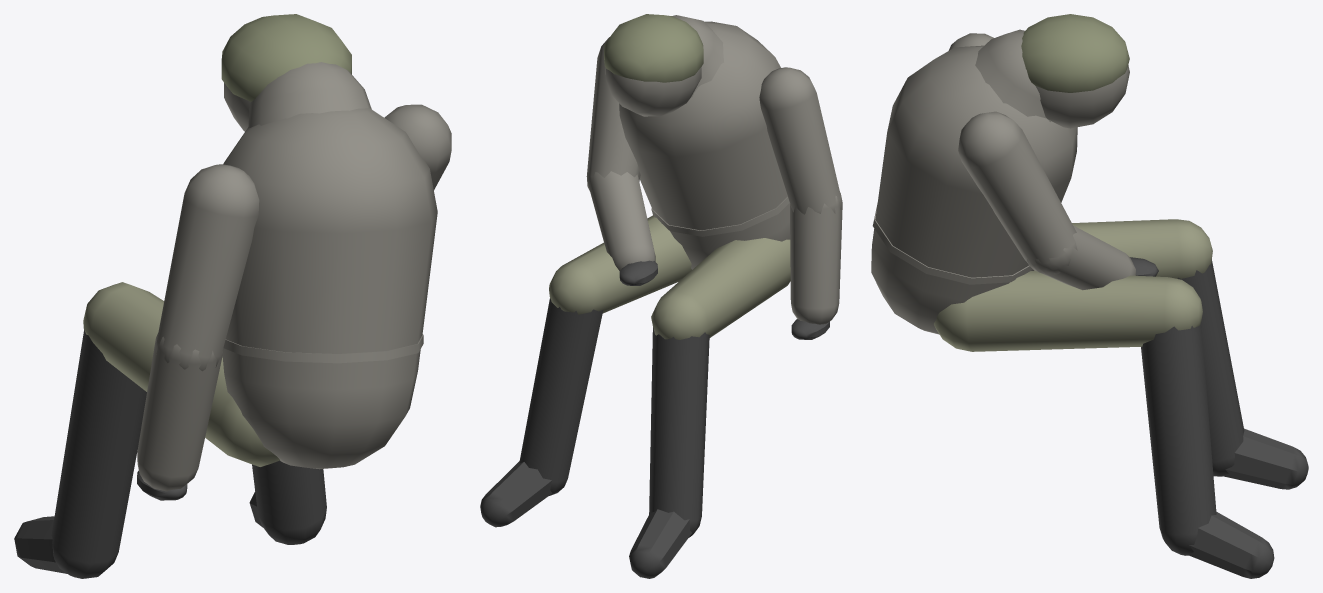
Rendered from remains_seated.glb.
3 views of the same model, side by side, from view 1: azimuth 30°, elevation 25°; view 2: azimuth 150°, elevation 25°; view 3: azimuth 270°, elevation 25° (orthographic). The views are drawn at different scales.
Parts seen in each view (by area): view 1: static; view 2: static; view 3: static.
Boxes of the visible parts, x1,y1,x2,y2 form: static: [14, 14, 451, 578]; static: [480, 14, 842, 578]; static: [871, 14, 1308, 578].
Size of the model in its own units: 0.6177 by 1.16 by 0.8906.
